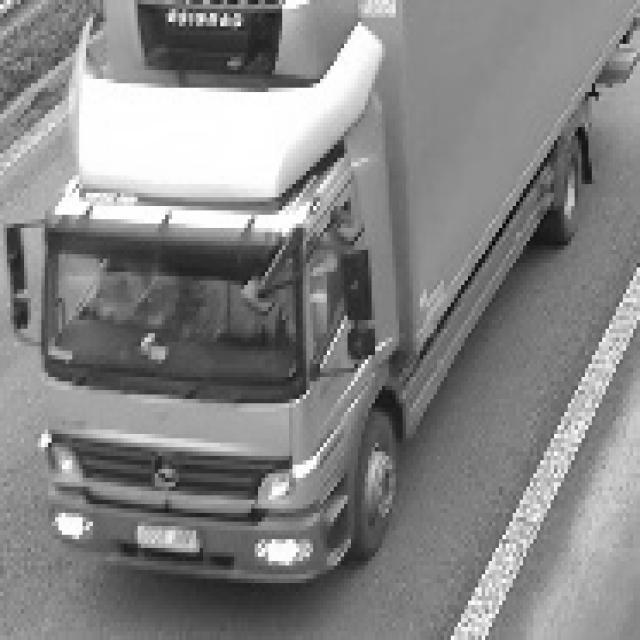truck: (6, 0, 636, 583)
